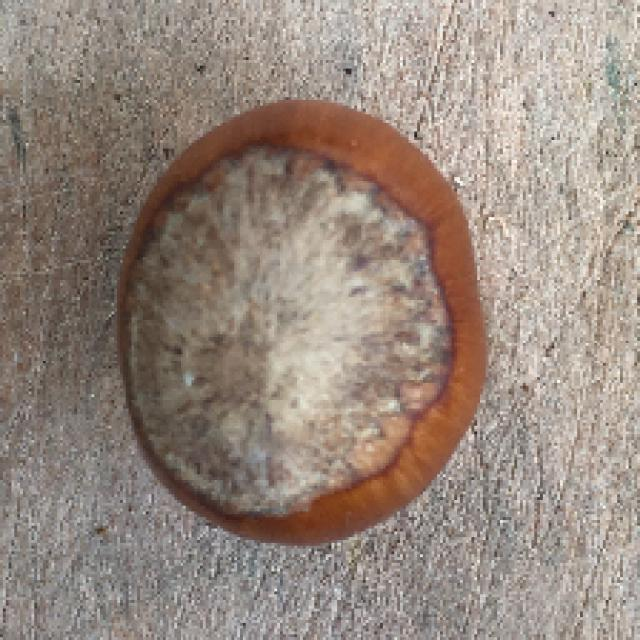QualityHazelnut: (111, 101, 491, 547)
